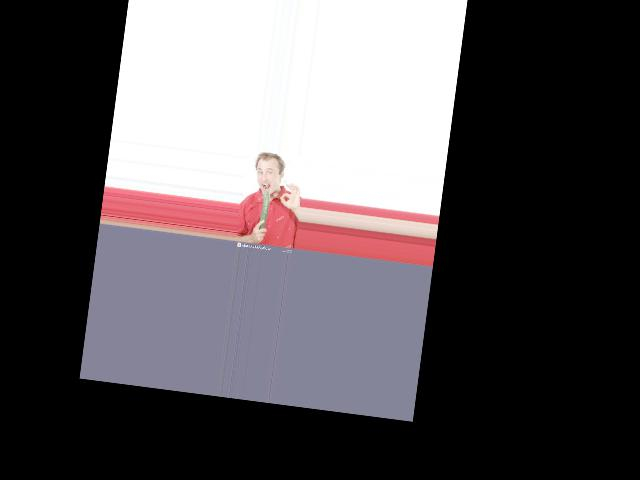cucumber: (259, 190, 270, 229)
